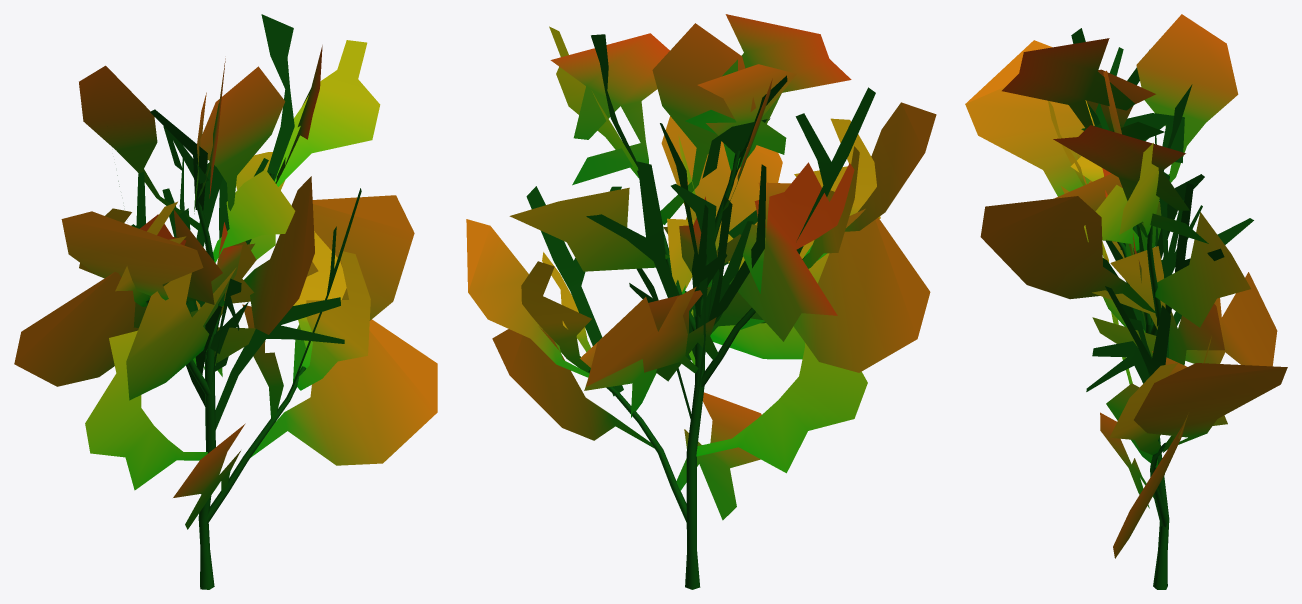
The model's file is Acacia_LOD0_Var2_semkO.fbx.
The picture shows the model from 3 angles, left to right: view 1: azimuth 30°, elevation 25°; view 2: azimuth 150°, elevation 25°; view 3: azimuth 270°, elevation 25°; orthographic projection.
Parts seen in each view (by area): view 1: _b7c3_Var2_LOD0; view 2: _b7c3_Var2_LOD0; view 3: _b7c3_Var2_LOD0.
Boxes of the visible parts, box(x1,y1,x2,y2) form: _b7c3_Var2_LOD0: box(14, 14, 437, 589); _b7c3_Var2_LOD0: box(466, 14, 936, 589); _b7c3_Var2_LOD0: box(965, 14, 1287, 589).
Size of the model in its own units: 75.16 by 93.1 by 49.82.
